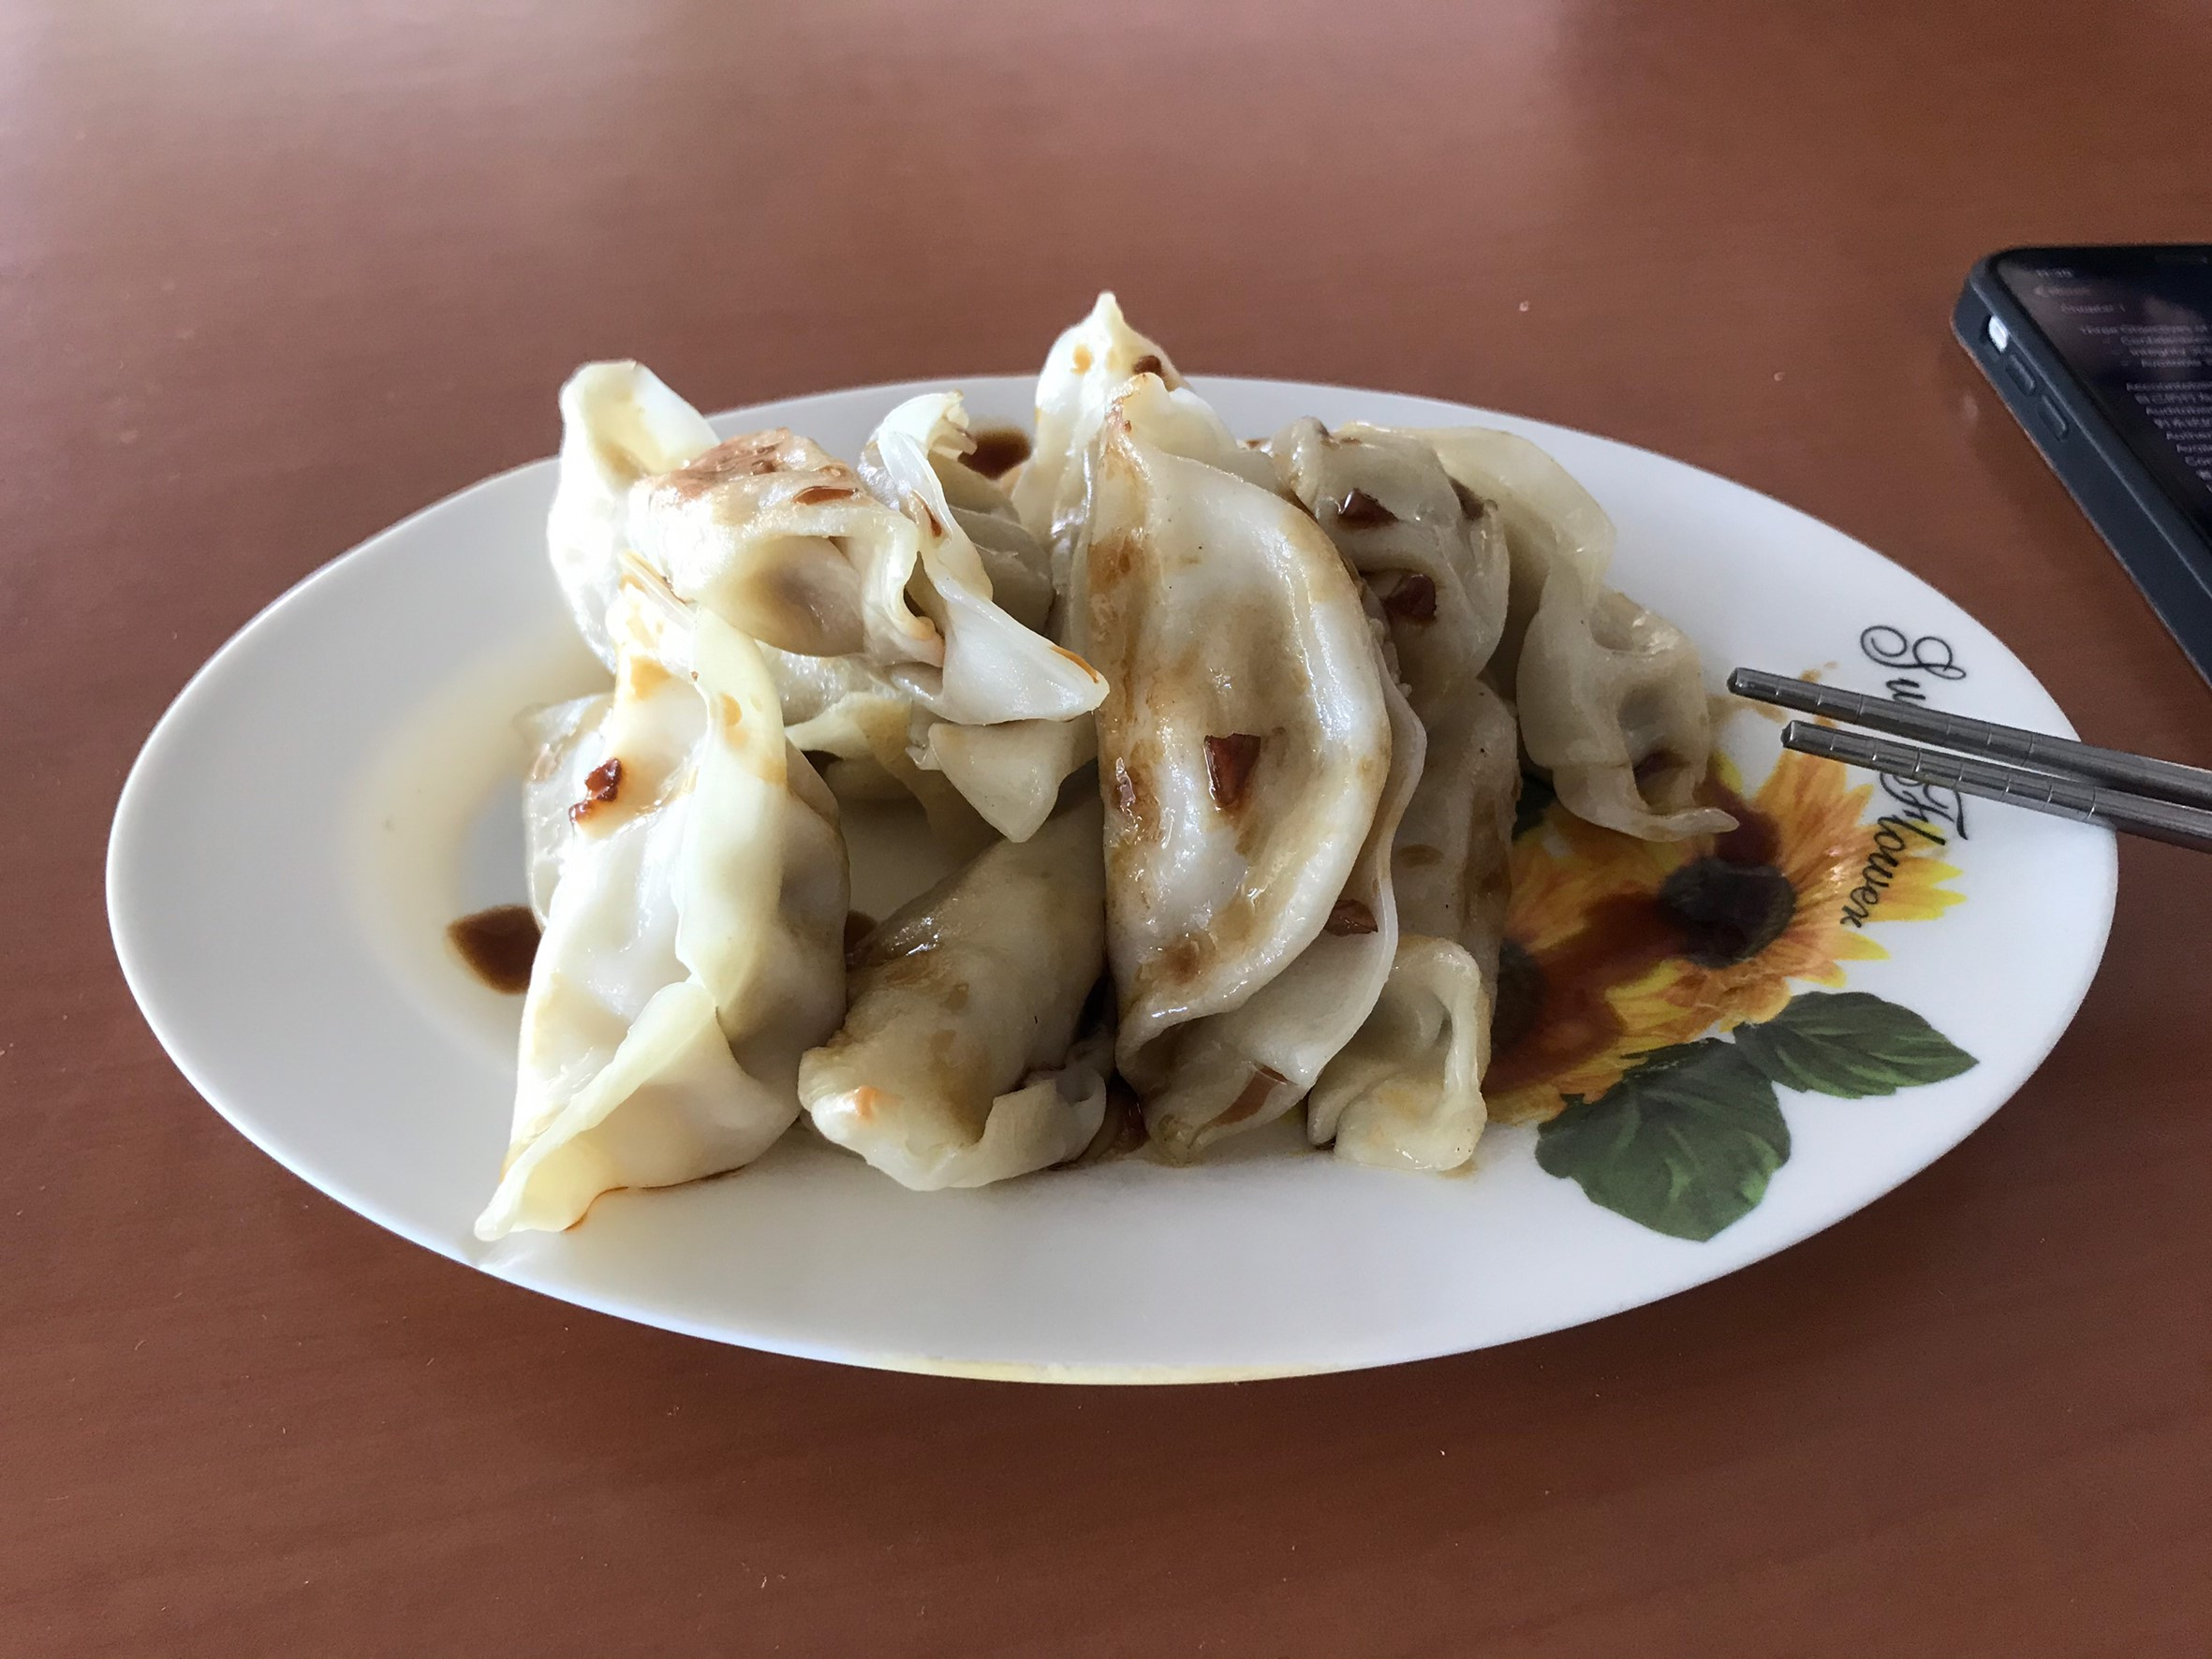fried_dumplings: (525, 349, 1729, 1209)
